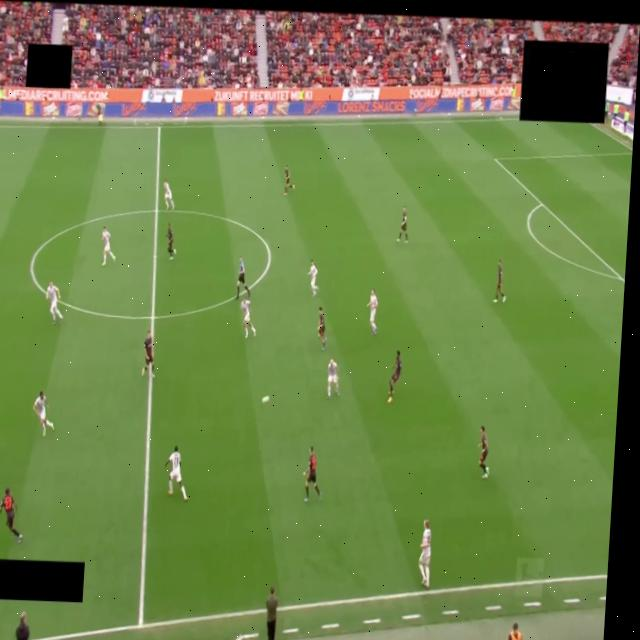ball: (262, 396, 269, 403)
player: (164, 446, 188, 501), (0, 488, 21, 543), (304, 446, 321, 501), (33, 391, 53, 437), (419, 520, 431, 588), (46, 282, 62, 325), (388, 351, 401, 403), (142, 331, 154, 378), (241, 300, 256, 337), (494, 259, 506, 303), (102, 228, 115, 266), (327, 359, 339, 399), (479, 426, 488, 479), (367, 289, 377, 335), (397, 207, 408, 243), (308, 260, 318, 296), (163, 179, 174, 210), (318, 308, 326, 350), (284, 165, 295, 195), (167, 224, 176, 260)
referee: (237, 257, 250, 299)
